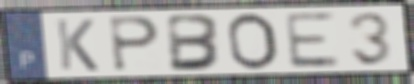3: (347, 12, 395, 66)
B: (165, 13, 224, 73)
E: (282, 11, 343, 70)
K: (53, 17, 101, 73)
O: (225, 11, 282, 71)
P: (107, 15, 162, 74)
